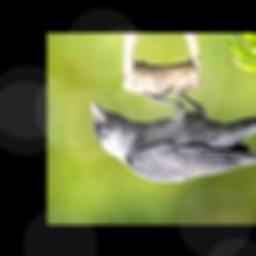Crow: (92, 86, 256, 184)
